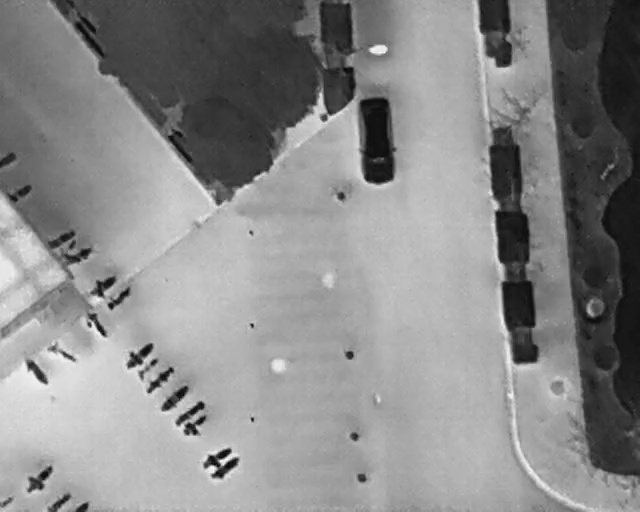Bicycle: (118, 335, 160, 374), (155, 379, 195, 418), (19, 459, 58, 498), (140, 362, 180, 398), (196, 439, 236, 475), (177, 408, 216, 444), (82, 270, 123, 304), (19, 353, 54, 390), (208, 452, 246, 486), (79, 307, 113, 344), (171, 396, 209, 429), (100, 281, 136, 315), (43, 336, 81, 367), (43, 225, 80, 254), (58, 243, 95, 269), (4, 179, 35, 207), (134, 354, 163, 381), (45, 490, 72, 510), (0, 151, 18, 168), (0, 495, 13, 509), (75, 500, 91, 511)
Car: (355, 96, 399, 186)
